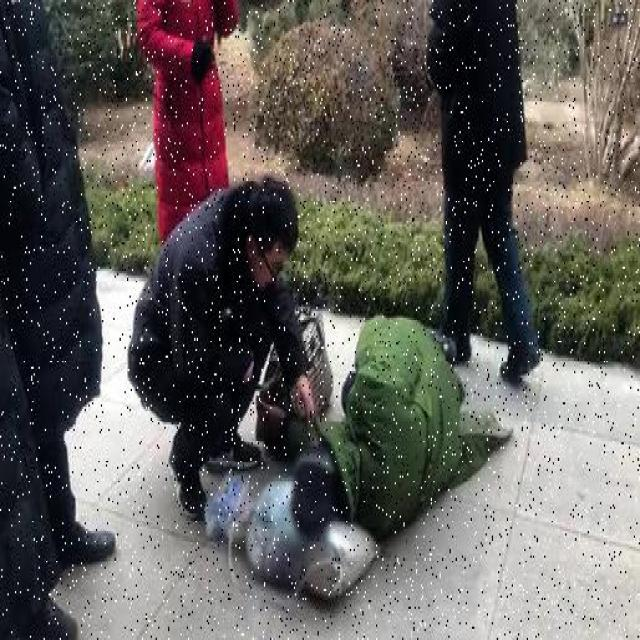fall: (288, 313, 474, 531)
